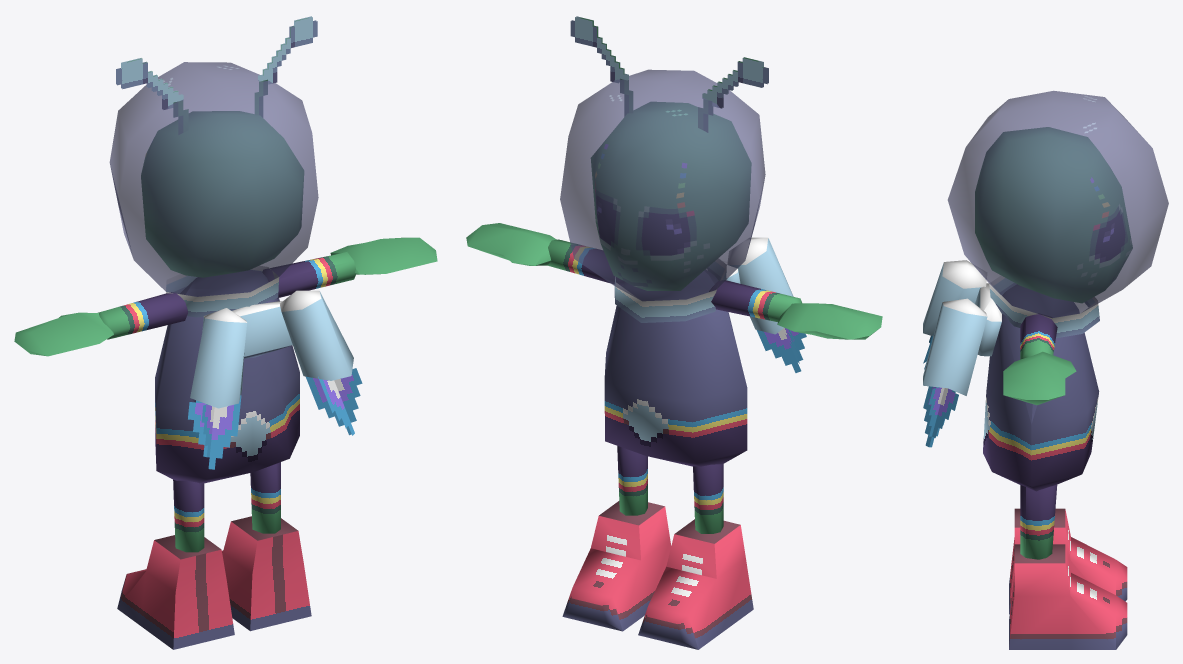
File: alien.gltf
3 views of the same model, side by side, from view 1: azimuth 30°, elevation 25°; view 2: azimuth 150°, elevation 25°; view 3: azimuth 270°, elevation 25° (orthographic). The views are drawn at different scales.
Parts seen in each view (by area): view 1: helmet, head, alien, jetpack, foot_left, foot_right, flames, hand_left, hand_right, arm_left, arm_right, leg_left (+1 smaller); view 2: helmet, head, alien, foot_left, foot_right, hand_left, jetpack, hand_right, arm_left, leg_left, leg_right, arm_right (+1 smaller); view 3: helmet, head, alien, foot_right, jetpack, foot_left, hand_right, leg_right, flames, arm_right.
Boxes of the visible parts, <box> form: helmet: <box>109,16,318,317</box>; head: <box>127,18,307,277</box>; alien: <box>155,270,299,483</box>; jetpack: <box>190,290,353,408</box>; foot_left: <box>117,535,234,649</box>; foot_right: <box>222,516,311,631</box>; flames: <box>188,368,362,469</box>; hand_left: <box>14,312,113,356</box>; hand_right: <box>330,237,437,274</box>; arm_left: <box>98,292,187,339</box>; arm_right: <box>262,252,355,298</box>; leg_left: <box>173,479,204,552</box>; helmet: <box>560,16,768,322</box>; head: <box>580,17,763,290</box>; alien: <box>604,269,747,466</box>; foot_left: <box>638,519,753,649</box>; foot_right: <box>562,501,671,631</box>; hand_left: <box>777,303,882,339</box>; jetpack: <box>706,237,793,334</box>; hand_right: <box>466,223,556,265</box>; arm_left: <box>709,280,801,322</box>; leg_left: <box>693,463,723,533</box>; leg_right: <box>617,446,647,515</box>; arm_right: <box>548,239,624,285</box>; helmet: <box>947,90,1168,338</box>; head: <box>975,127,1132,302</box>; alien: <box>983,284,1099,491</box>; foot_right: <box>1009,544,1127,649</box>; jetpack: <box>923,260,1001,395</box>; foot_left: <box>1009,508,1127,614</box>; hand_right: <box>1003,351,1076,405</box>; leg_right: <box>1020,484,1057,559</box>; flames: <box>923,334,958,447</box>; arm_right: <box>1020,313,1057,359</box>.
Bounding box in the file's own units: 1.25 × 1.69 × 0.7138.
2 materials, 2 textured.
